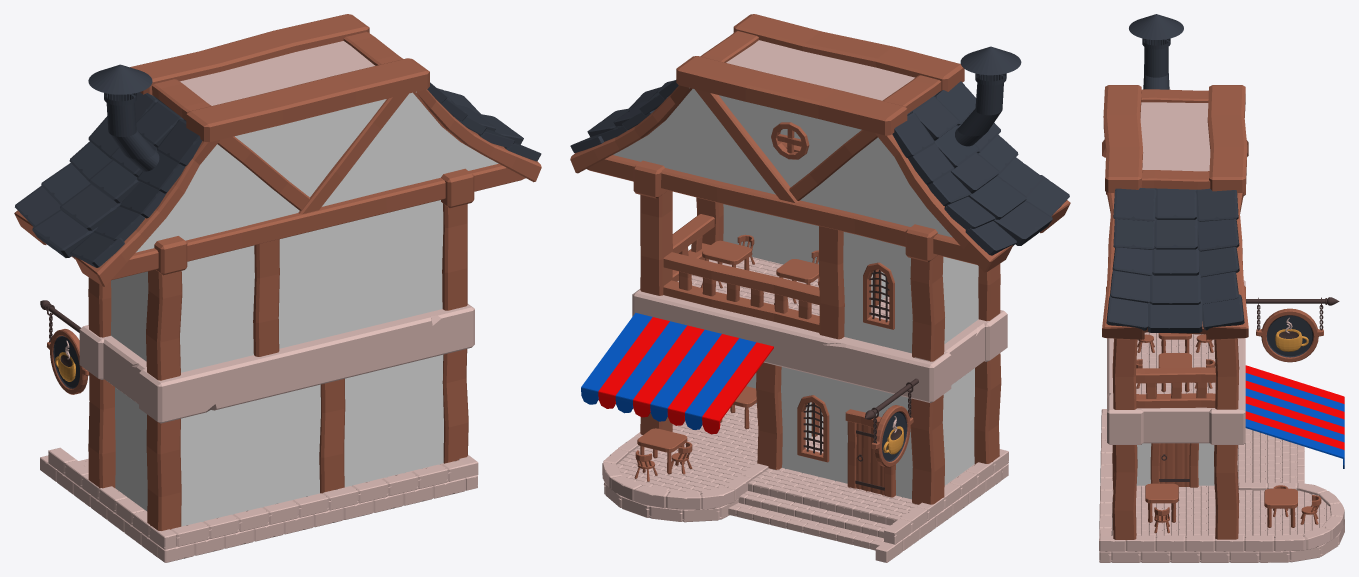
Rendered from cafe.fbx.
3 renders of one model, left to right at view 1: azimuth 30°, elevation 25°; view 2: azimuth 150°, elevation 25°; view 3: azimuth 270°, elevation 25°, orthographic. The views are drawn at different scales.
Parts seen in each view (by area): view 1: Building; view 2: Building, MainDoor, Table, Table.002, Table.003; view 3: Building, SideDoor, Table, Table.001, Table.002, Table.003, Chair.001.
Part boxes in pixels (<box>): Building: <box>14,14,541,562</box>; Building: <box>570,14,1070,562</box>; MainDoor: <box>855,423,884,495</box>; Table: <box>637,428,687,474</box>; Table.002: <box>702,240,751,270</box>; Table.003: <box>776,259,819,287</box>; Building: <box>1099,14,1344,562</box>; SideDoor: <box>1159,443,1189,486</box>; Table: <box>1264,488,1297,527</box>; Table.001: <box>1145,483,1178,522</box>; Table.002: <box>1158,353,1191,392</box>; Table.003: <box>1158,333,1191,353</box>; Chair.001: <box>1300,495,1321,524</box>.
Size of the model in its own units: 3058 by 3023 by 1632.
